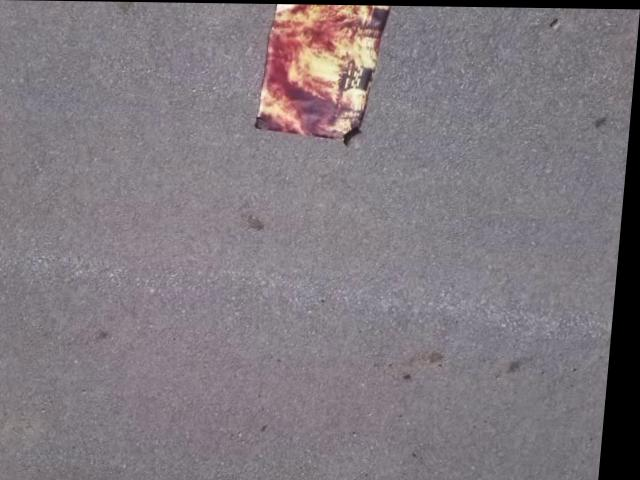fire-poster: (252, 4, 394, 146)
